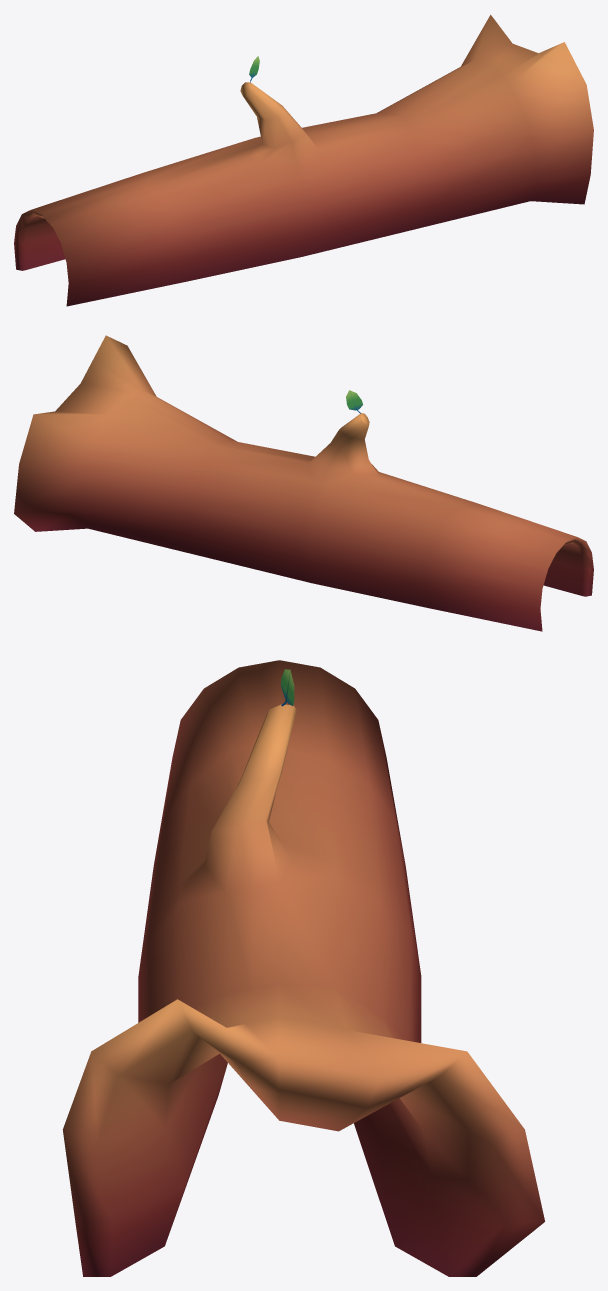
Rendered from W1_OBSTACLE_2.fbx.
The picture shows the model from 3 angles, top to bottom: view 1: azimuth 30°, elevation 25°; view 2: azimuth 150°, elevation 25°; view 3: azimuth 270°, elevation 25°; orthographic projection. The views are drawn at different scales.
Visible parts, largest first — view 1: W1_OBSTACLE_2; view 2: W1_OBSTACLE_2; view 3: W1_OBSTACLE_2.
Part boxes in pixels (<box>): W1_OBSTACLE_2: <box>14,14,593,306</box>; W1_OBSTACLE_2: <box>14,335,593,631</box>; W1_OBSTACLE_2: <box>62,660,544,1276</box>.
Size of the model in its own units: 495 by 168 by 213.
